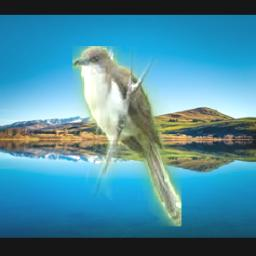Cuckoo: (73, 47, 183, 227)
